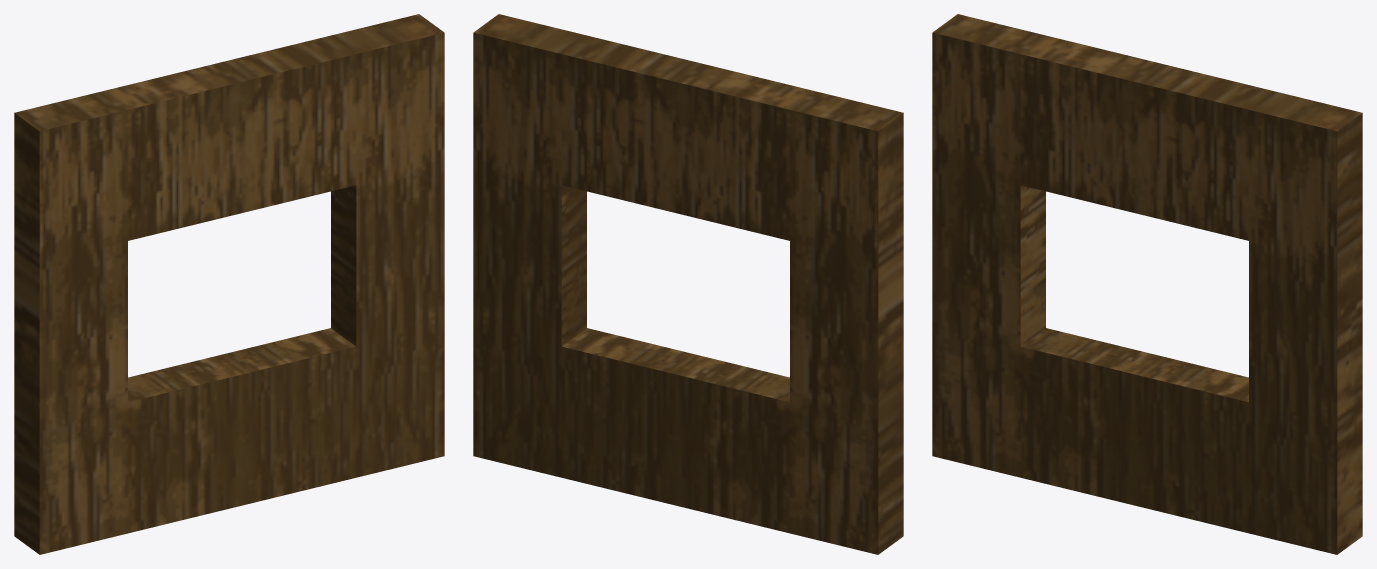
File: SM_WallWindow.fbx
The picture shows the model from 3 angles, left to right: view 1: azimuth 30°, elevation 25°; view 2: azimuth 150°, elevation 25°; view 3: azimuth 330°, elevation 25°; orthographic projection.
Visible parts, largest first — view 1: SM_WallWindow; view 2: SM_WallWindow; view 3: SM_WallWindow.
Part boxes in pixels (x1,y1,x2,y2): SM_WallWindow: [14, 14, 444, 554]; SM_WallWindow: [473, 14, 903, 554]; SM_WallWindow: [932, 14, 1362, 554].
Size of the model in its own units: 460 by 460 by 50.
